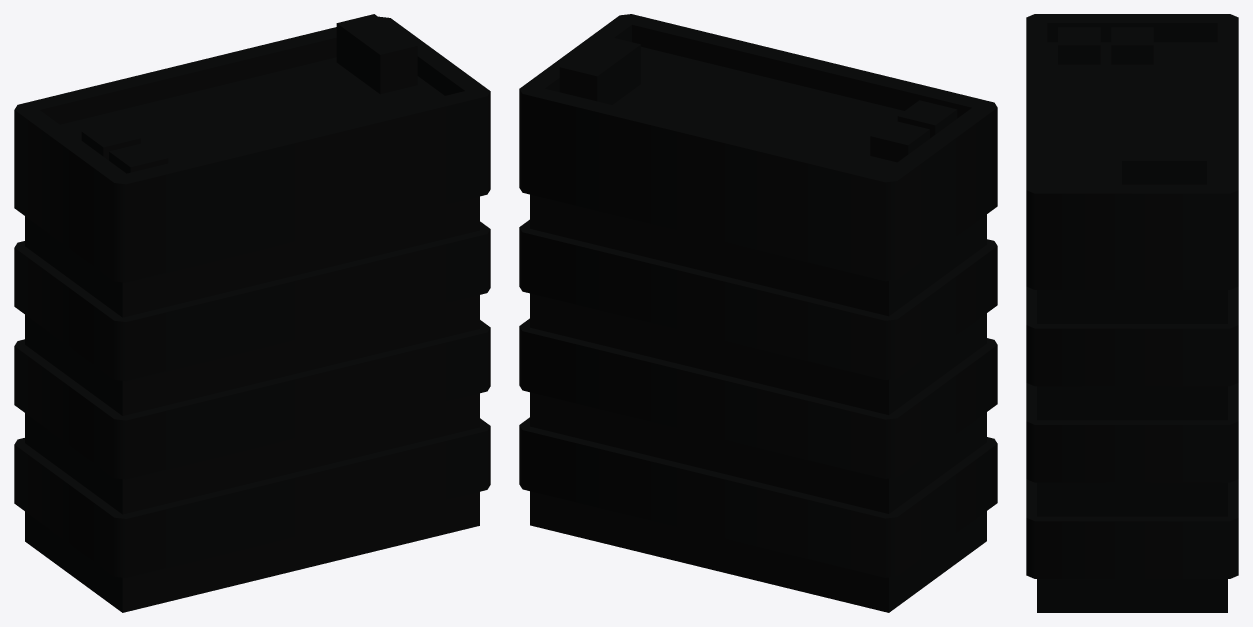
The model's file is low-detail-building-wide-b.glb.
The picture shows the model from 3 angles, left to right: view 1: azimuth 30°, elevation 25°; view 2: azimuth 150°, elevation 25°; view 3: azimuth 270°, elevation 25°; orthographic projection. The views are drawn at different scales.
Parts seen in each view (by area): view 1: low-detail-building-wide-b; view 2: low-detail-building-wide-b; view 3: low-detail-building-wide-b.
Boxes of the visible parts, left/top/right/bottom form: low-detail-building-wide-b: left=14, top=14, right=490, bottom=612; low-detail-building-wide-b: left=519, top=14, right=997, bottom=612; low-detail-building-wide-b: left=1026, top=14, right=1238, bottom=612.
Size of the model in its own units: 1 by 1.15 by 0.4999.
Materials: 1 (1 with a texture image).
